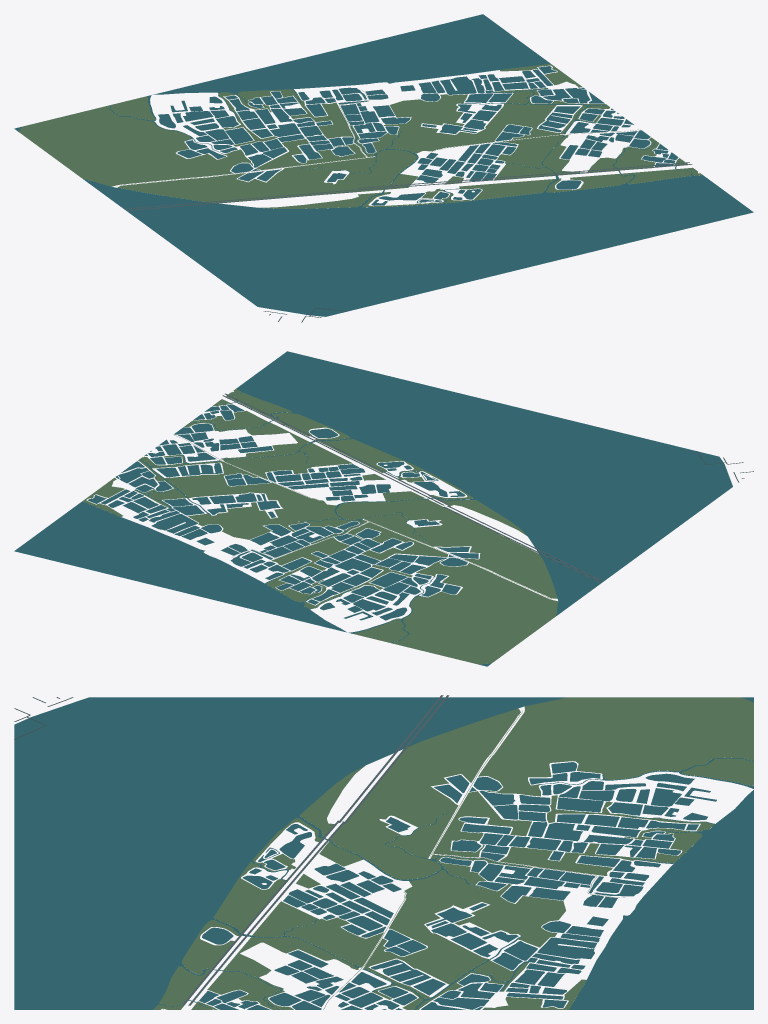
The picture shows the model from 3 angles, top to bottom: view 1: azimuth 30°, elevation 25°; view 2: azimuth 150°, elevation 25°; view 3: azimuth 270°, elevation 25°; orthographic projection. The views are drawn at different scales.
Visible parts, largest first — view 1: water, green, bridge; view 2: water, green, bridge; view 3: water, green, bridge.
Part boxes in pixels (box(x1,y1,x2,y2)): water: box(14, 14, 753, 316); green: box(19, 63, 702, 208); bridge: box(126, 162, 692, 210); water: box(14, 351, 732, 666); green: box(82, 388, 558, 664); bridge: box(222, 393, 602, 582); water: box(14, 697, 753, 1009); green: box(153, 697, 753, 1009); bridge: box(182, 695, 449, 1005).
Bounding box in the file's own units: 2002 × 12.42 × 2001.
